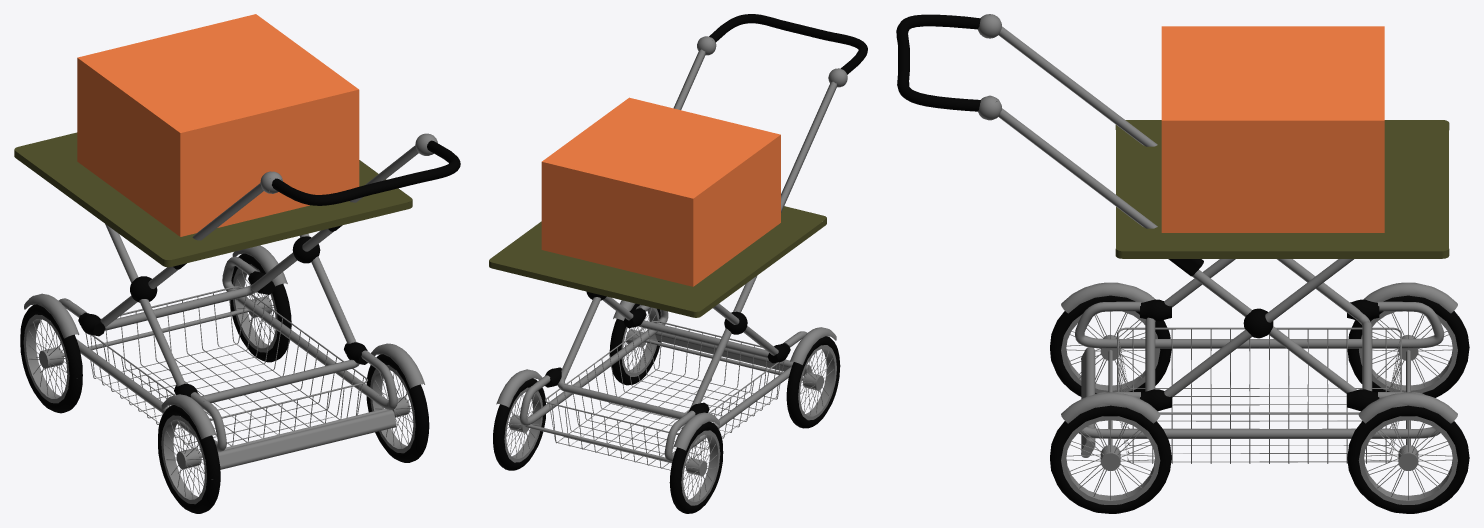
The model's file is XE DAY.fbx.
3 renders of one model, left to right at view 1: azimuth 30°, elevation 25°; view 2: azimuth 150°, elevation 25°; view 3: azimuth 270°, elevation 25°, orthographic. The views are drawn at different scales.
Parts seen in each view (by area): view 1: Part 1532, Part 98, Part 1500, Part 74, Part 42, Part 1508, Part 1260, Part 1516, Part 1228, Part 1268, Part 1236, Part 34 (+12 smaller); view 2: Part 1532, Part 98, Part 1508, Part 42, Part 1516, Part 1500, Part 1260, Part 34, Part 1228, Part 1236, Part 1268, Part 1244 (+10 smaller); view 3: Part 1532, Part 98, Part 1268, Part 34, Part 1244, Part 1252, Part 1500, Part 1508, Part 1260, Part 1516, Part 42, Part 1228 (+11 smaller).
Boxes of the visible parts, <box> form: Part 1532: <box>77,14,359,236</box>; Part 98: <box>14,132,412,267</box>; Part 1500: <box>105,224,359,402</box>; Part 74: <box>218,410,396,469</box>; Part 42: <box>23,314,212,504</box>; Part 1508: <box>100,229,333,330</box>; Part 1260: <box>222,256,397,409</box>; Part 1516: <box>272,140,460,205</box>; Part 1228: <box>20,304,82,413</box>; Part 1268: <box>54,298,226,451</box>; Part 1236: <box>158,405,220,513</box>; Part 34: <box>233,264,415,453</box>; Part 1532: <box>541,97,780,286</box>; Part 98: <box>489,206,826,317</box>; Part 1508: <box>557,275,757,419</box>; Part 42: <box>681,345,836,505</box>; Part 1516: <box>709,14,867,74</box>; Part 1500: <box>602,296,778,358</box>; Part 1260: <box>519,305,668,425</box>; Part 34: <box>504,304,659,462</box>; Part 1228: <box>669,421,723,513</box>; Part 1236: <box>786,336,840,428</box>; Part 1268: <box>664,331,811,461</box>; Part 1244: <box>493,378,545,470</box>; Part 1532: <box>1161,26,1384,232</box>; Part 98: <box>1115,120,1449,258</box>; Part 1268: <box>1075,301,1444,348</box>; Part 34: <box>1061,416,1457,504</box>; Part 1244: <box>1347,405,1469,513</box>; Part 1252: <box>1050,405,1171,513</box>; Part 1500: <box>1145,259,1353,397</box>; Part 1508: <box>1192,259,1372,393</box>; Part 1260: <box>1078,392,1440,438</box>; Part 1516: <box>896,14,980,111</box>; Part 42: <box>1061,311,1457,393</box>; Part 1228: <box>1347,295,1469,397</box>.
Size of the model in its own units: 627 by 900 by 1155.
